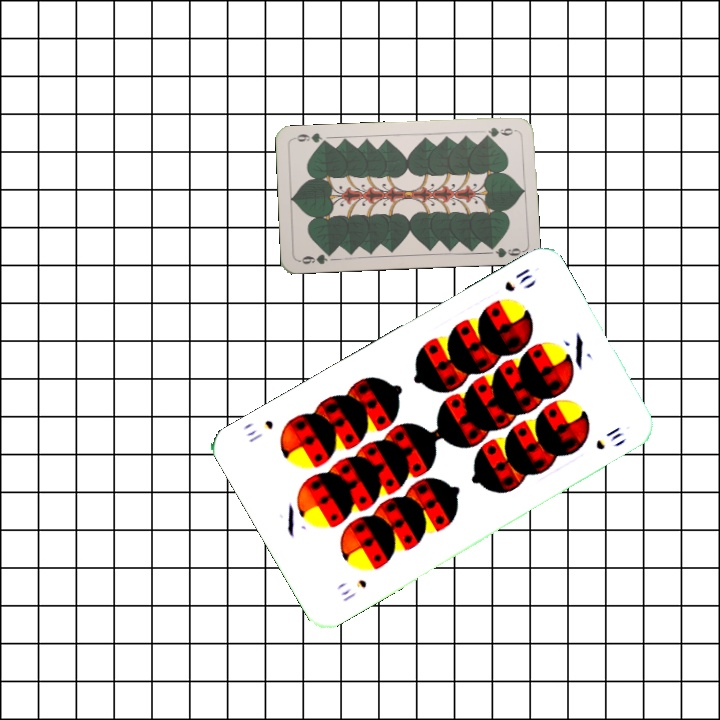G9: (295, 248, 335, 267), (480, 123, 519, 140)
S10: (500, 264, 535, 295), (337, 575, 370, 605)
